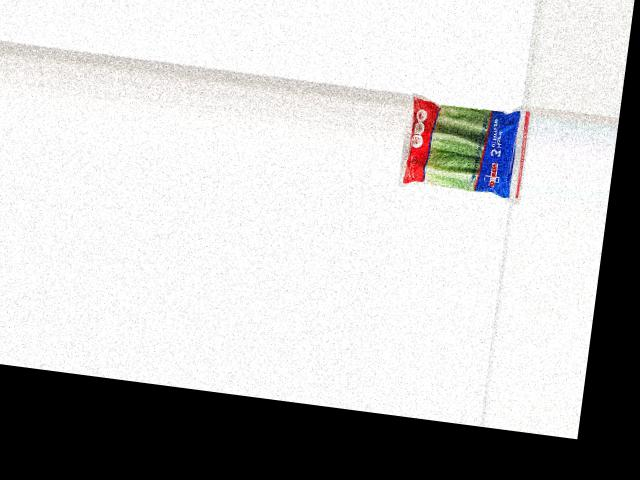lettuce: (397, 94, 523, 199)
